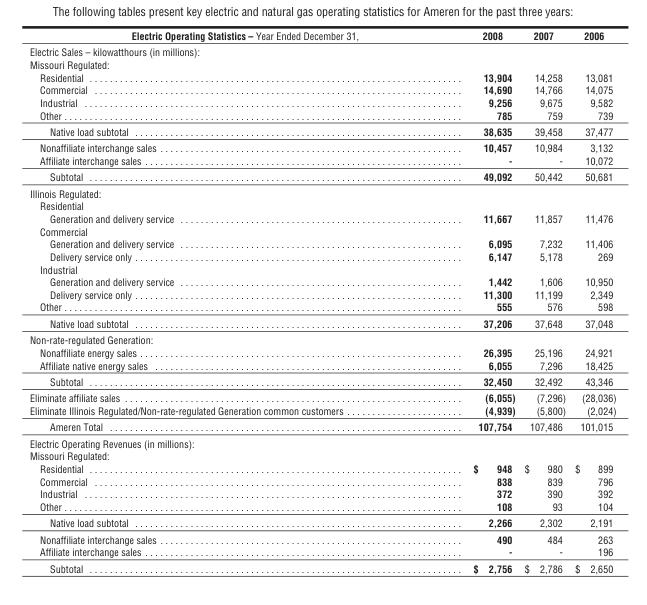table: (28, 28, 615, 574)
table column: (28, 28, 415, 574), (415, 28, 519, 574), (519, 28, 569, 574), (569, 28, 615, 574)
table column header: (28, 28, 615, 43)
table projected row header: (28, 184, 615, 199), (28, 434, 615, 449), (28, 43, 615, 57), (28, 331, 615, 345), (28, 57, 615, 70), (28, 199, 615, 212), (28, 224, 615, 237), (28, 262, 615, 275), (28, 449, 615, 462)
table row: (28, 314, 615, 331), (28, 123, 615, 139), (28, 168, 615, 184), (28, 373, 615, 389), (28, 418, 615, 434), (28, 514, 615, 530), (28, 28, 615, 43), (28, 108, 615, 123), (28, 153, 615, 168), (28, 184, 615, 199), (28, 358, 615, 373), (28, 403, 615, 418), (28, 434, 615, 449), (28, 499, 615, 514), (28, 530, 615, 545), (28, 559, 615, 574), (28, 43, 615, 57), (28, 139, 615, 153), (28, 300, 615, 314), (28, 331, 615, 345), (28, 389, 615, 403), (28, 545, 615, 559), (28, 57, 615, 70), (28, 70, 615, 83), (28, 95, 615, 108), (28, 199, 615, 212), (28, 224, 615, 237), (28, 249, 615, 262), (28, 262, 615, 275), (28, 287, 615, 300), (28, 345, 615, 358), (28, 449, 615, 462), (28, 474, 615, 487), (28, 83, 615, 95), (28, 212, 615, 224), (28, 237, 615, 249), (28, 275, 615, 287), (28, 462, 615, 474), (28, 487, 615, 499)
